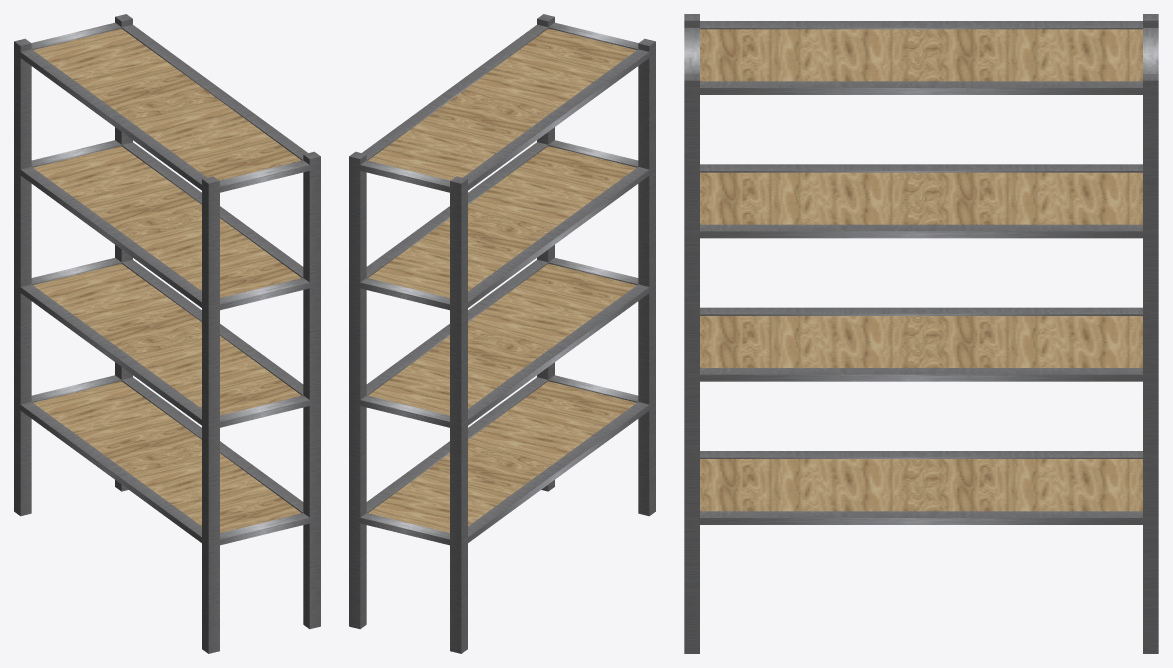
The model's file is MetalShelf150cm001.FBX.
3 views of the same model, side by side, from view 1: azimuth 30°, elevation 25°; view 2: azimuth 150°, elevation 25°; view 3: azimuth 270°, elevation 25° (orthographic). The views are drawn at different scales.
Parts seen in each view (by area): view 1: MetalShelf150cm001; view 2: MetalShelf150cm001; view 3: MetalShelf150cm001.
Boxes of the visible parts, bbox=[...] form: MetalShelf150cm001: bbox=[14, 14, 320, 653]; MetalShelf150cm001: bbox=[349, 14, 655, 653]; MetalShelf150cm001: bbox=[684, 14, 1158, 653].
Size of the model in its own units: 50 by 200 by 150.
